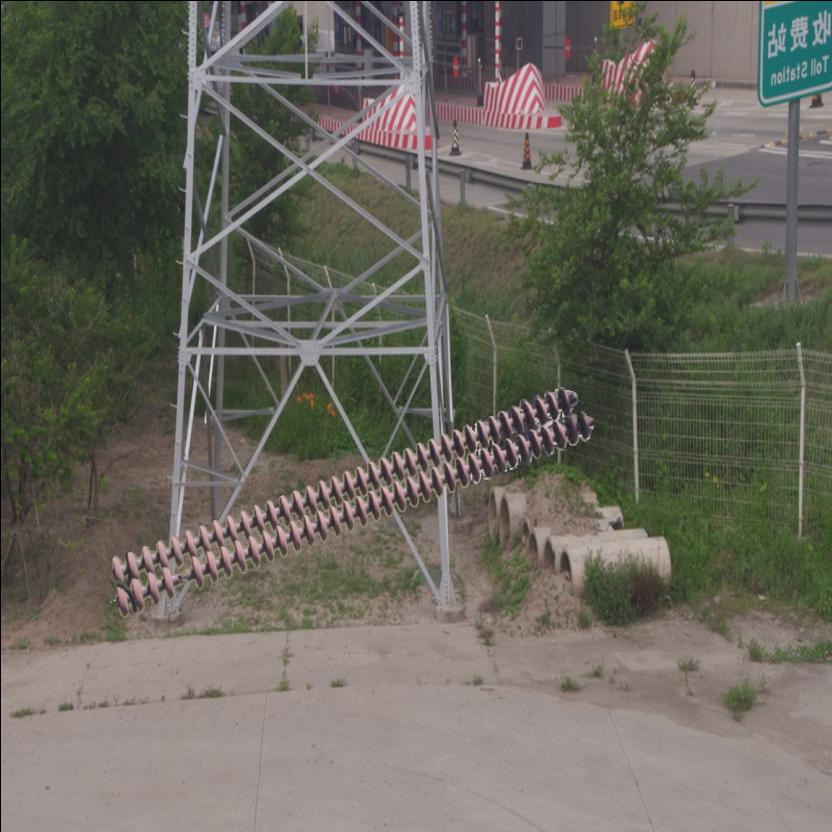defect: (158, 551, 207, 600)
